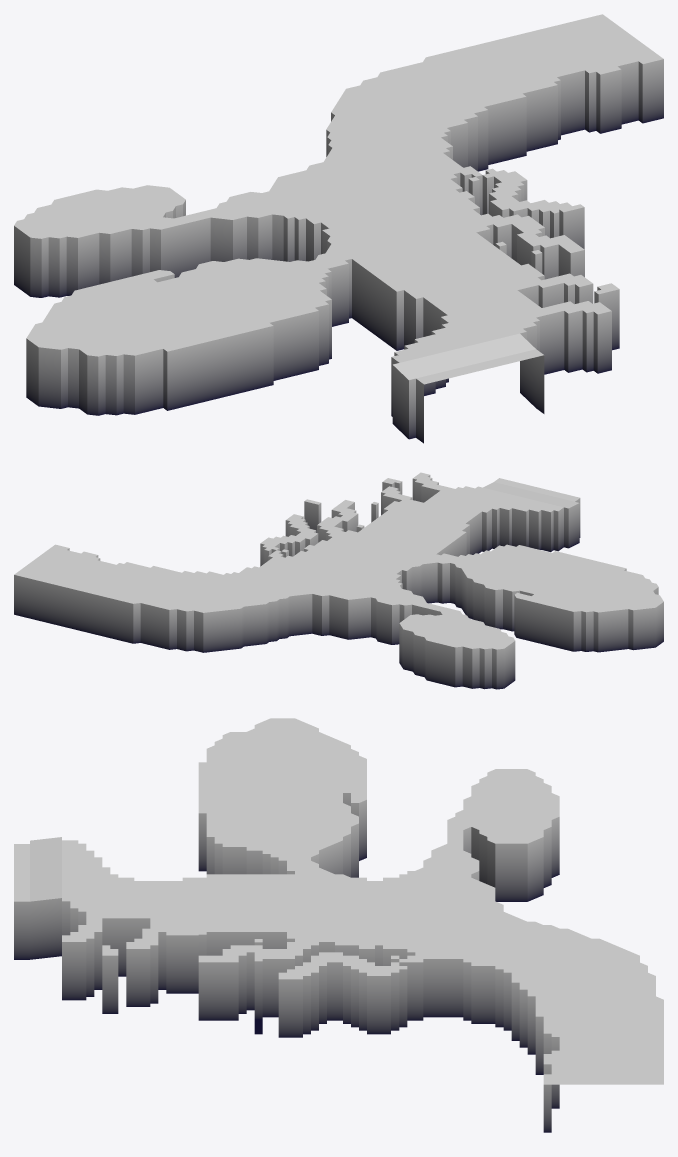
File: BarrensPart2.obj
3 views of the same model, one above another, from view 1: azimuth 30°, elevation 25°; view 2: azimuth 150°, elevation 25°; view 3: azimuth 270°, elevation 25° (orthographic). The views are drawn at different scales.
Visible parts, largest first — view 1: Плоскость.003; view 2: Плоскость.003; view 3: Плоскость.003.
Boxes of the visible parts, left/top/right/bottom form: Плоскость.003: left=14, top=14, right=663, bottom=443; Плоскость.003: left=14, top=472, right=663, bottom=689; Плоскость.003: left=14, top=718, right=663, bottom=1132.
Bounding box in the file's own units: 108 × 10.5 × 81.
